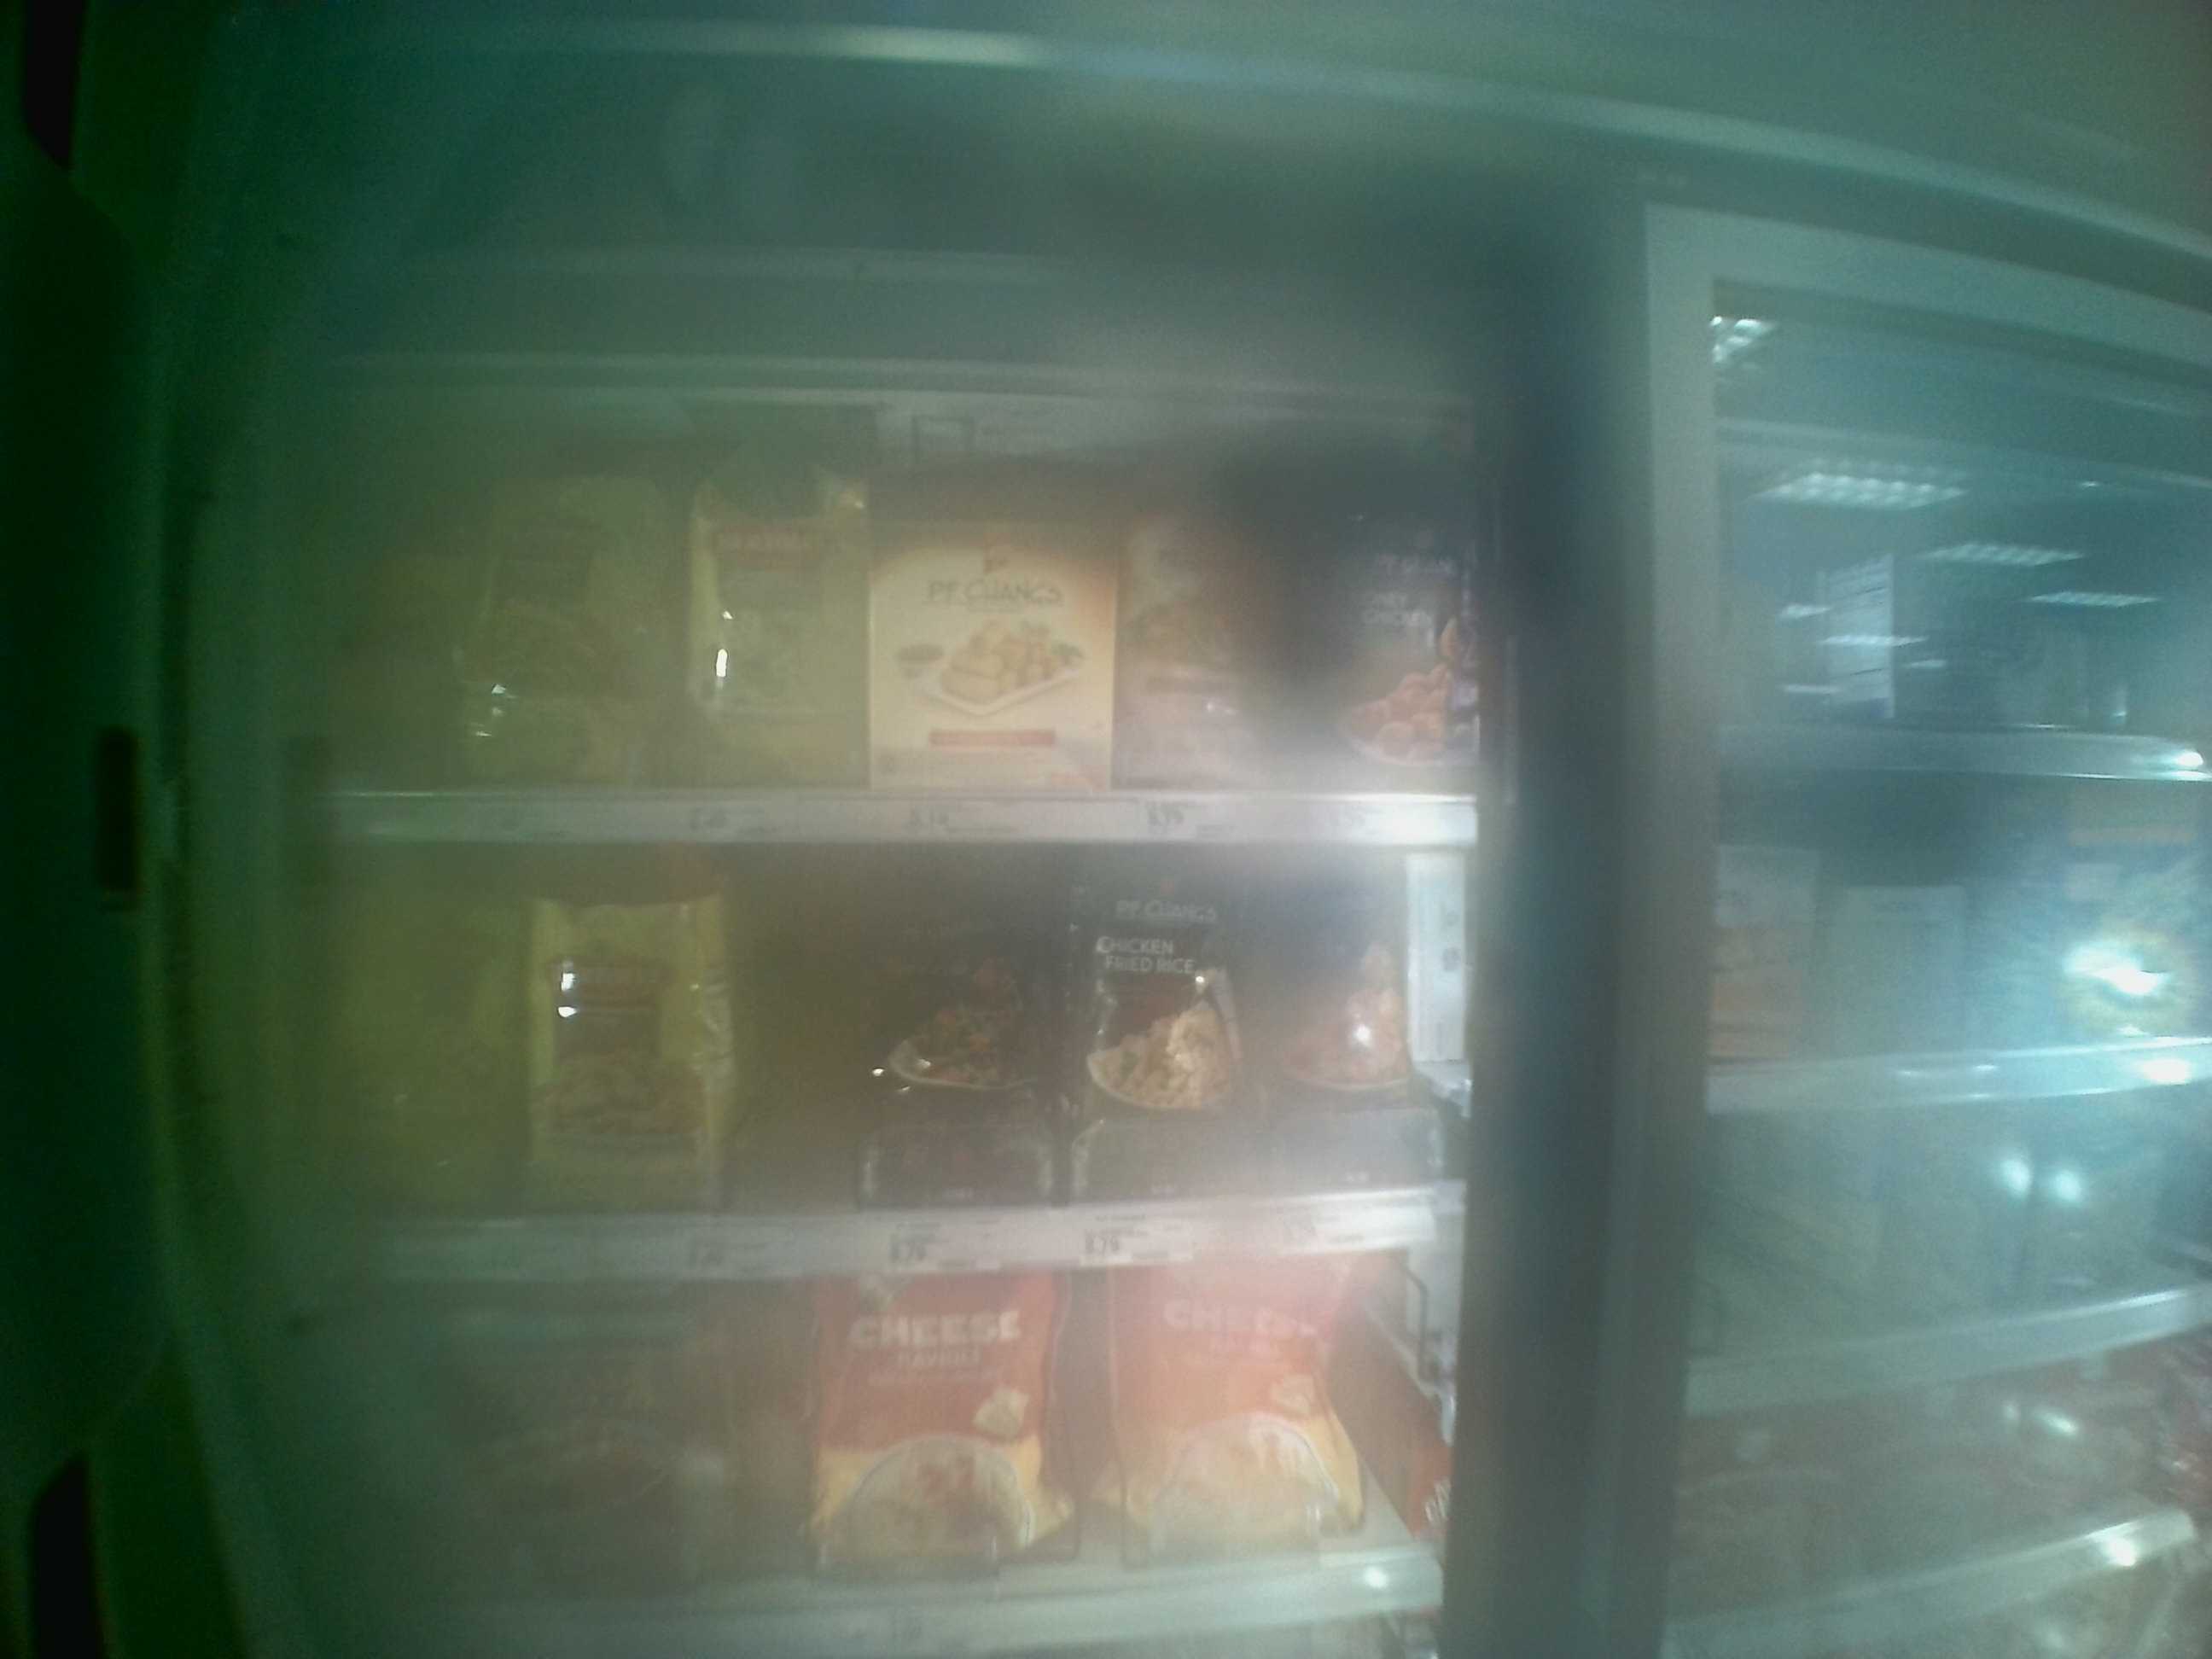shelf: (296, 347, 1467, 836), (289, 836, 1475, 1286)
